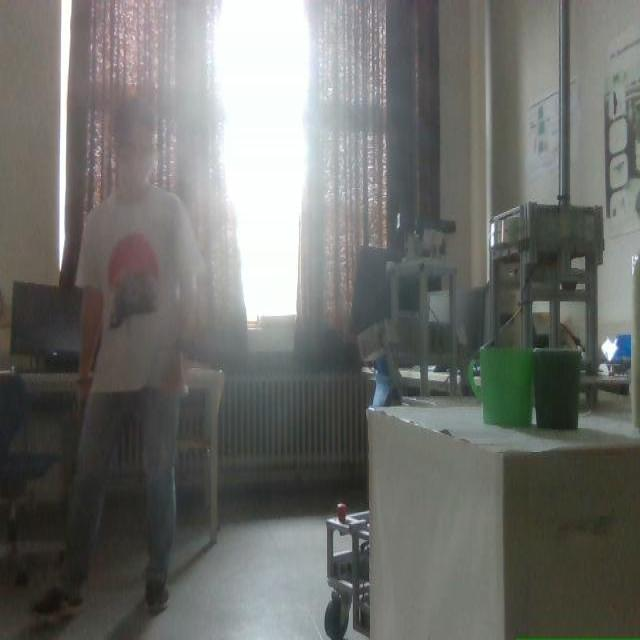humans: (33, 96, 201, 615)
objects: (368, 399, 639, 639), (0, 372, 58, 583), (10, 282, 81, 371), (467, 347, 532, 425), (532, 348, 580, 428)
